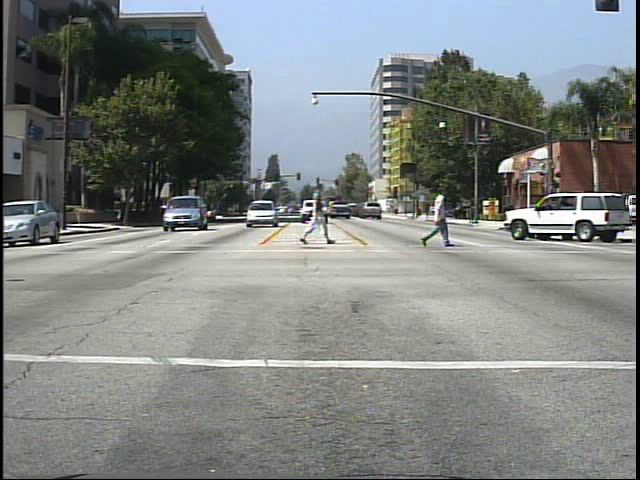person: (420, 176, 457, 254), (297, 175, 334, 249)
